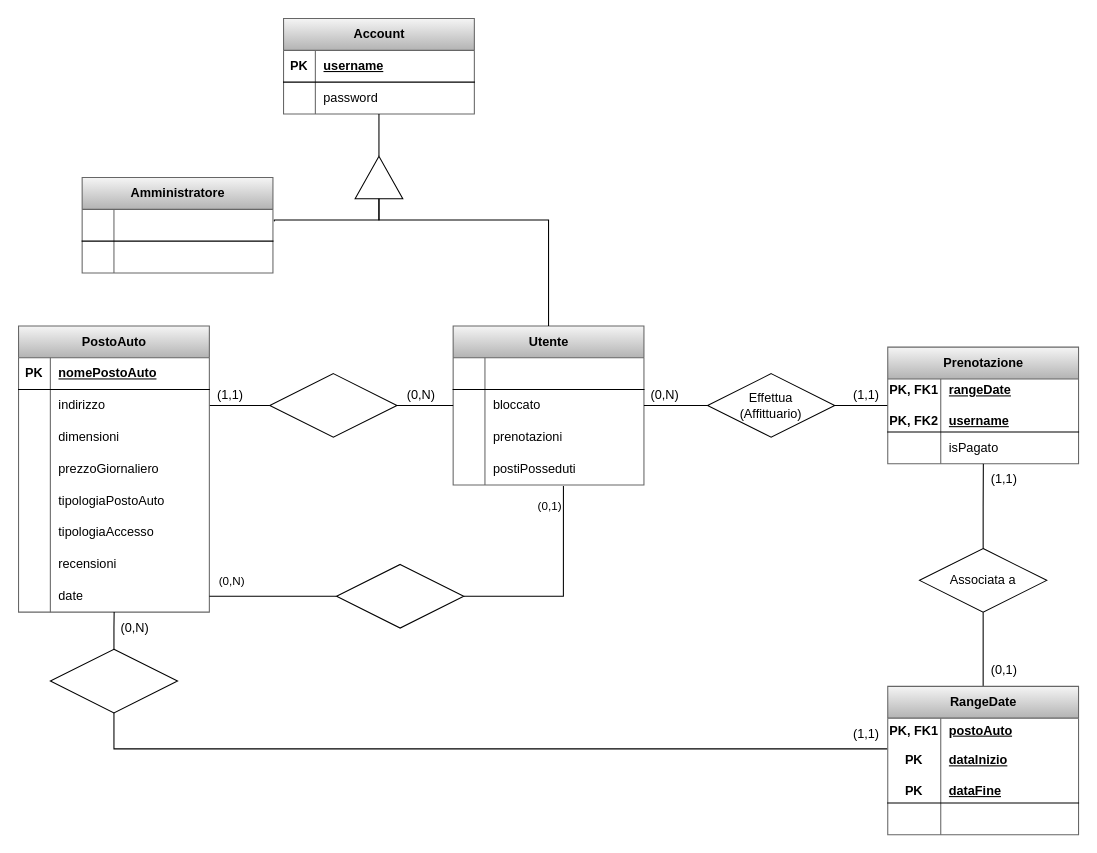
The diagram is 1097 pixels wide and 853 high, and some of its shapes have lost their labels. Each missing label, with the box of its shape:
d,t: (354, 155, 403, 199)
Formato da: (49, 648, 178, 713)
Inserisce (Proprietario): (269, 373, 397, 437)
Recensione: (335, 563, 464, 628)
